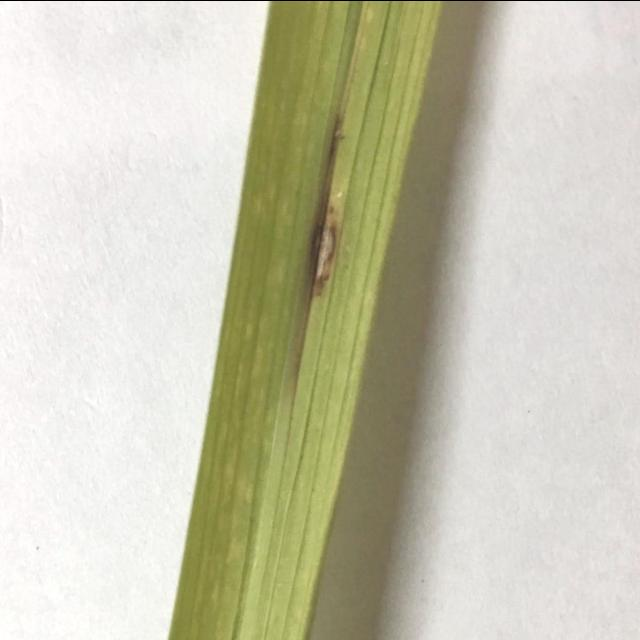Leaf_Blast: (236, 163, 368, 335)
